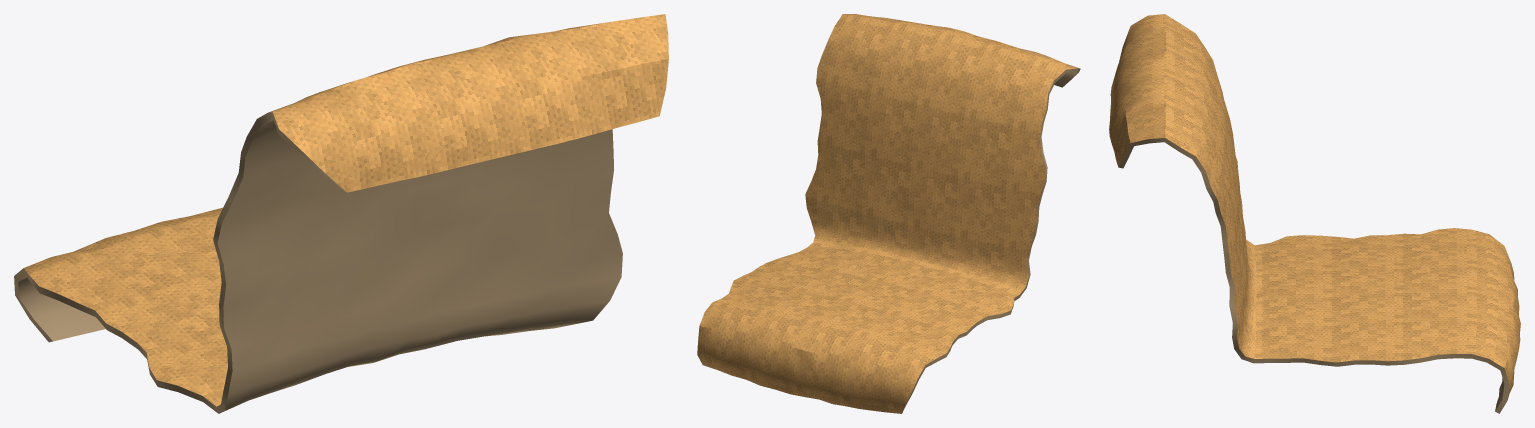
Rendered from seatcover_vc_sheepskin.glb.
3 renders of one model, left to right at view 1: azimuth 30°, elevation 25°; view 2: azimuth 150°, elevation 25°; view 3: azimuth 270°, elevation 25°, orthographic. The views are drawn at different scales.
Parts seen in each view (by area): view 1: SeatCover; view 2: SeatCover; view 3: SeatCover.
Part boxes in pixels (x1,y1,x2,y2): SeatCover: (14, 14, 668, 413); SeatCover: (697, 14, 1080, 413); SeatCover: (1109, 14, 1520, 413).
Bounding box in the file's own units: 0.6038 × 0.6209 × 0.7949.
2 materials, 1 textured.
